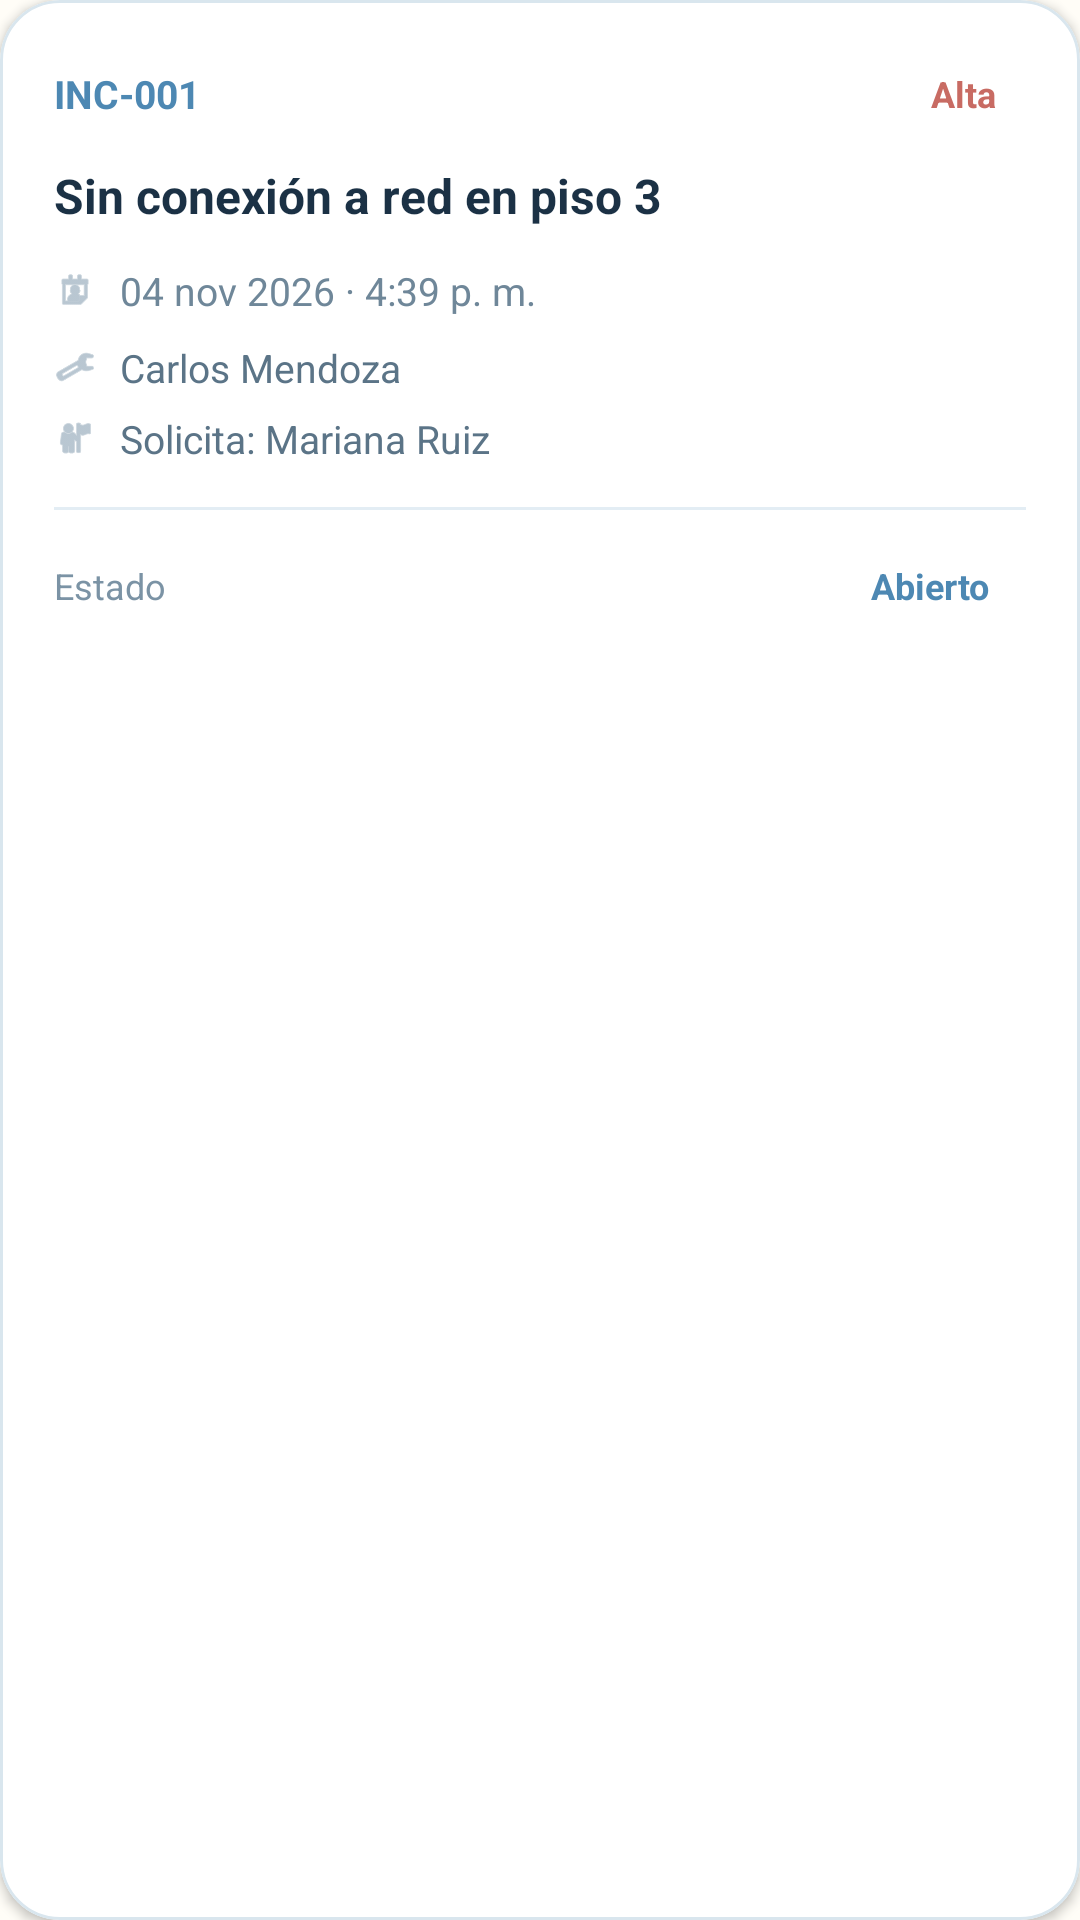

Icon bounding boxes for this 1080 × 1920 phone screenshot, format (x1, y1, x2, y2):
calendar: (61, 274, 89, 305)
manage: (56, 353, 94, 381)
